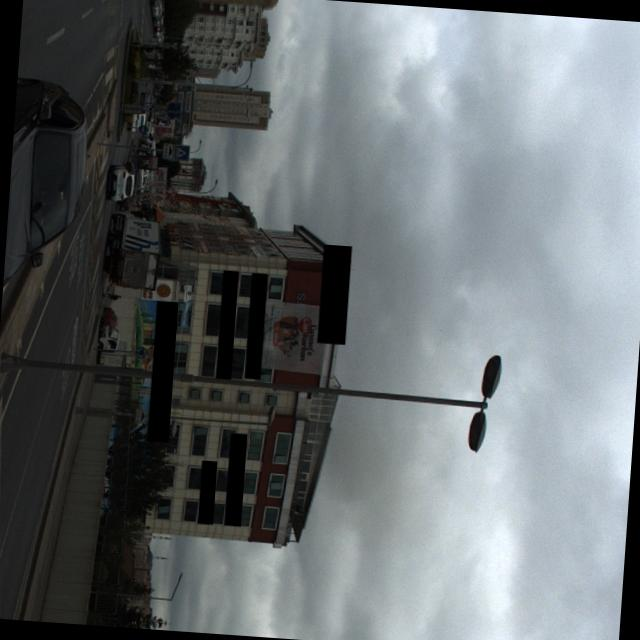SignStore: (146, 301, 176, 442), (323, 244, 350, 344), (214, 270, 237, 379), (243, 273, 266, 379), (223, 433, 246, 526), (196, 460, 216, 524)
